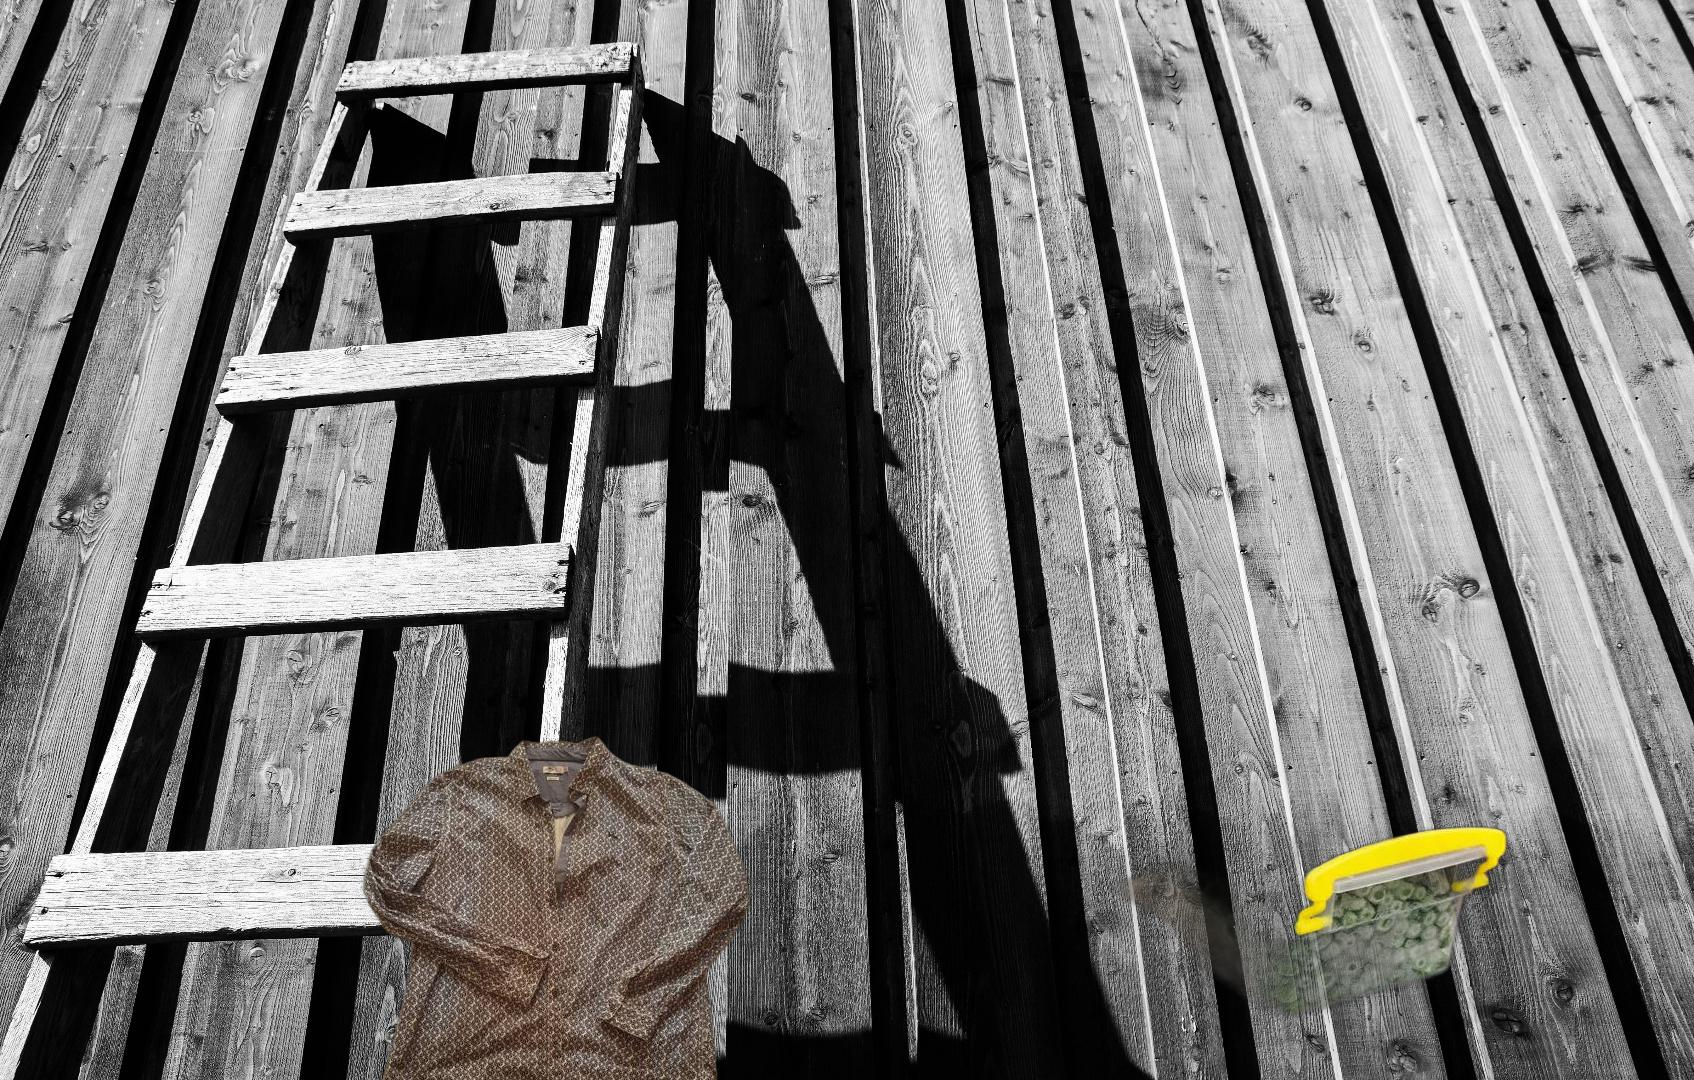biological: (806, 694, 1694, 1080)
clothes: (356, 732, 754, 1080)
